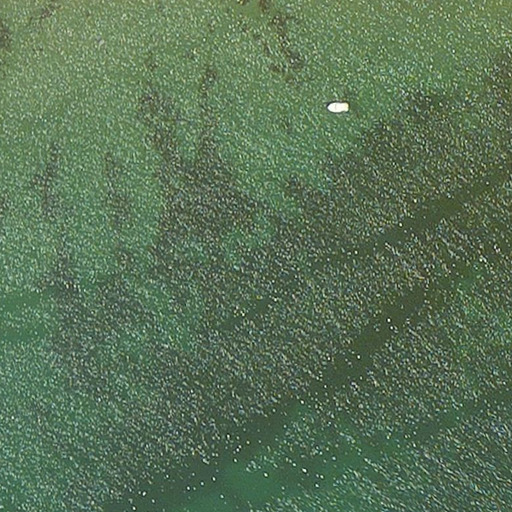ship: (324, 99, 353, 115)
